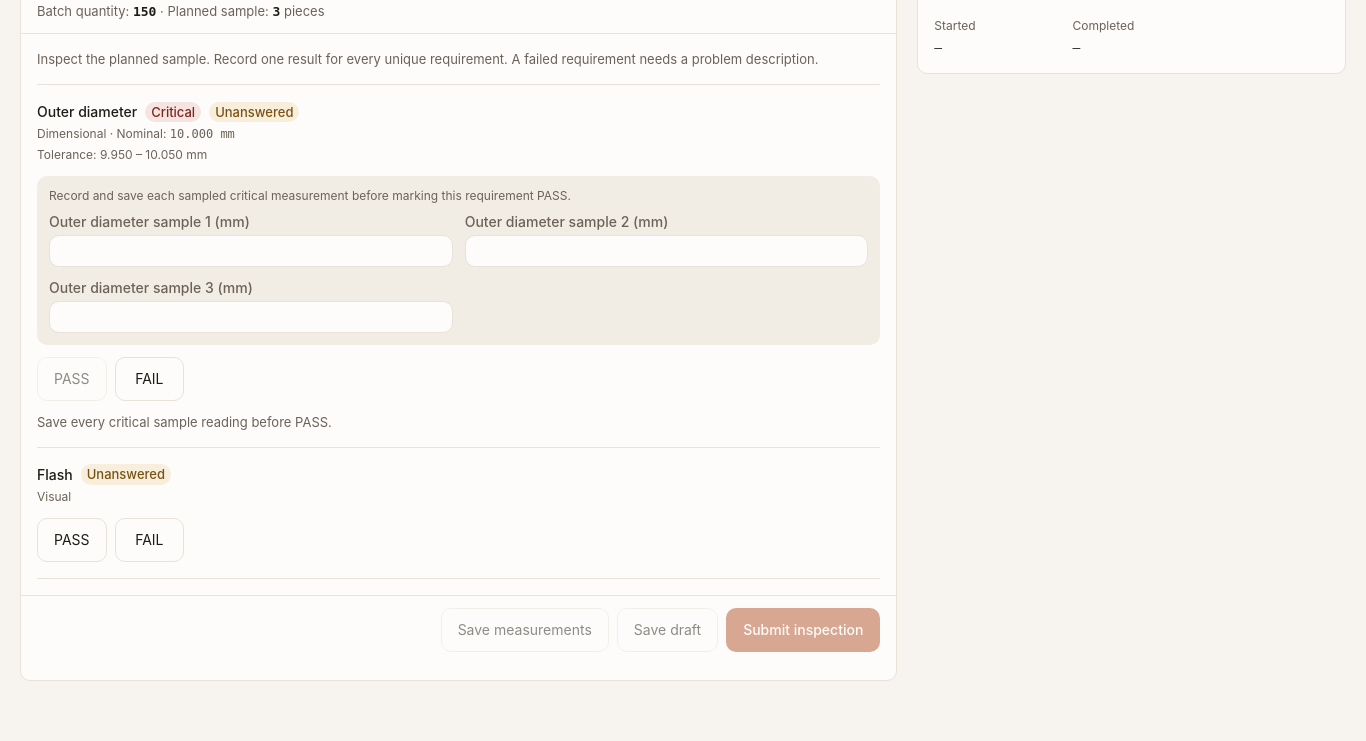
Scenario: InspectionDetailPage › shows critical sample measurements alongside checklist decisions for supplier_return
This screenshot has width=1366, height=741.
(page scrolled)
Check: the number of buttons "PASS" is 2, box [37, 357, 106, 401]; [37, 518, 106, 562]
Check: the number of number fields is 3, box [50, 236, 452, 266]; [466, 236, 867, 266]; [50, 302, 452, 332]
Click the button with aria-label "FAIL Outer diameter" at (149, 379), box [114, 357, 184, 401]
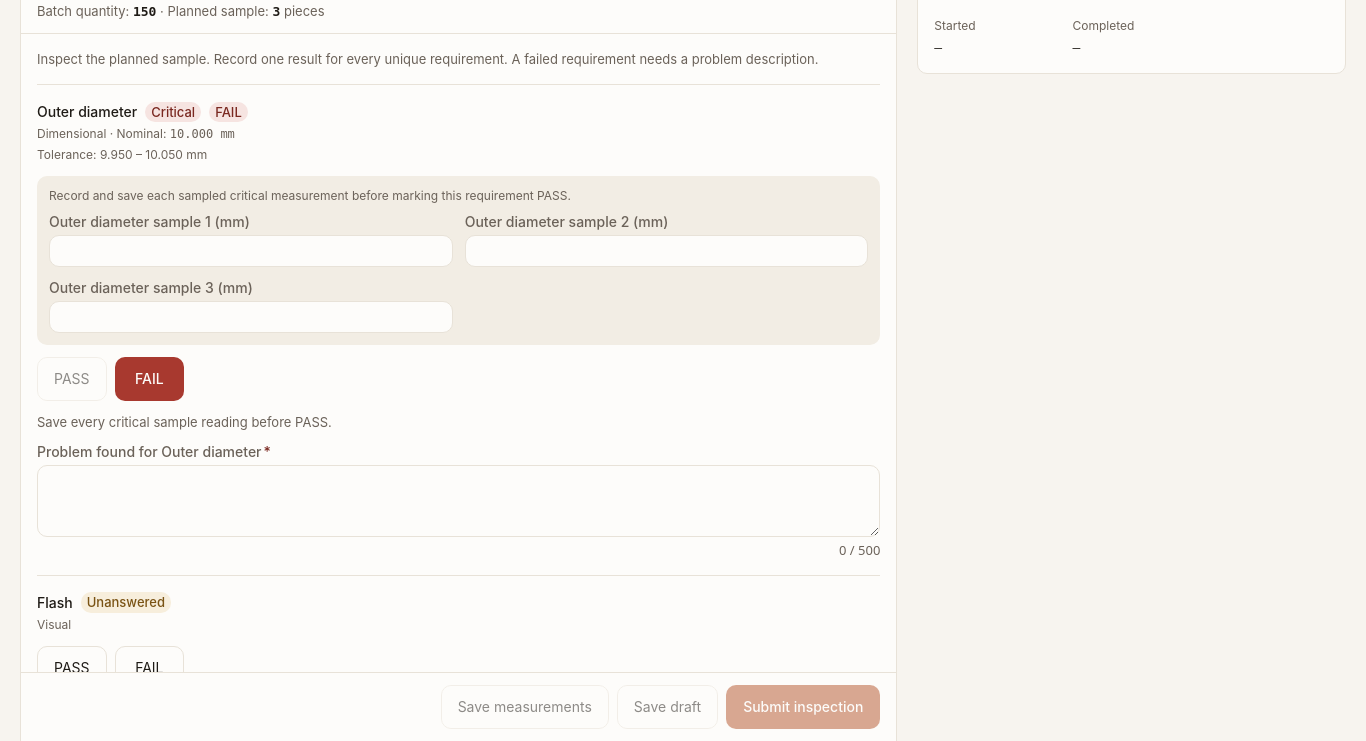
Type "Oversized part" into the text box labelled "Problem found for Outer diameter" at (459, 501), box [37, 465, 880, 537]
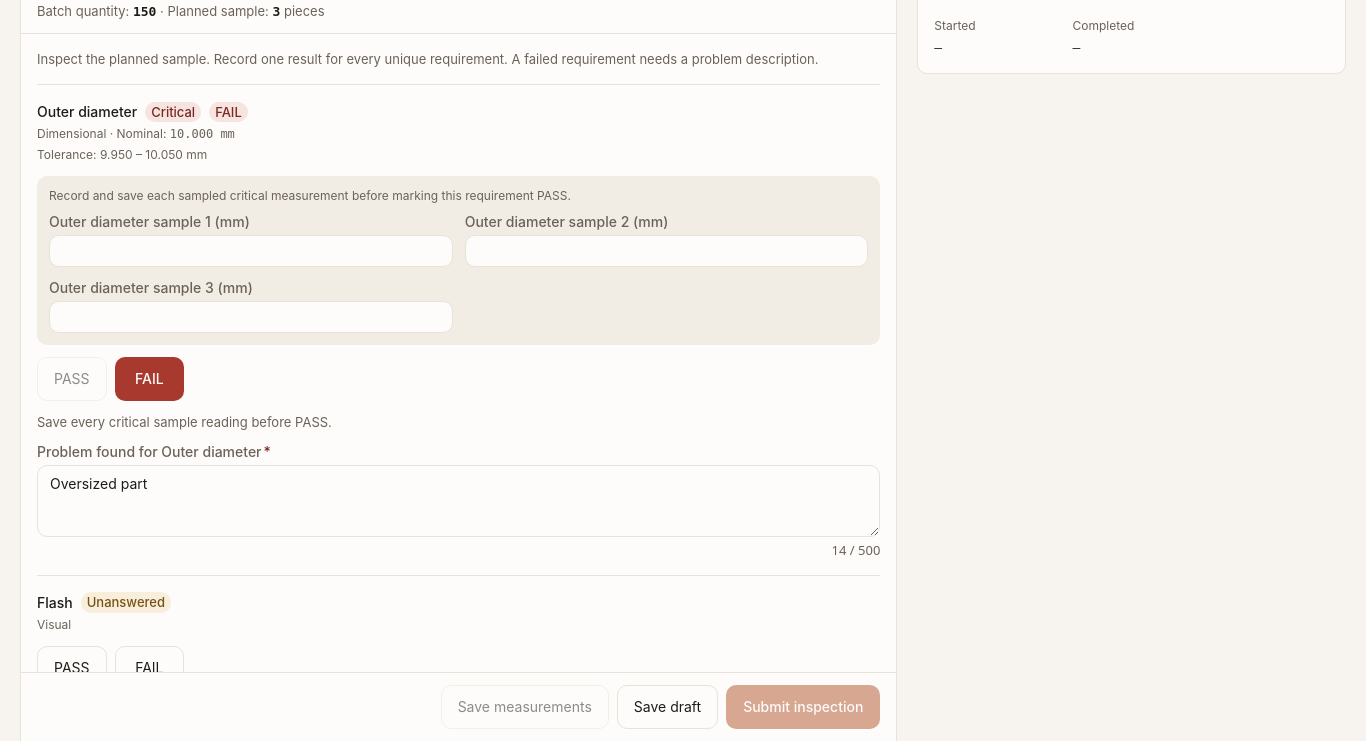
Click the button with aria-label "PASS Flash" at (72, 668), box [37, 646, 106, 690]
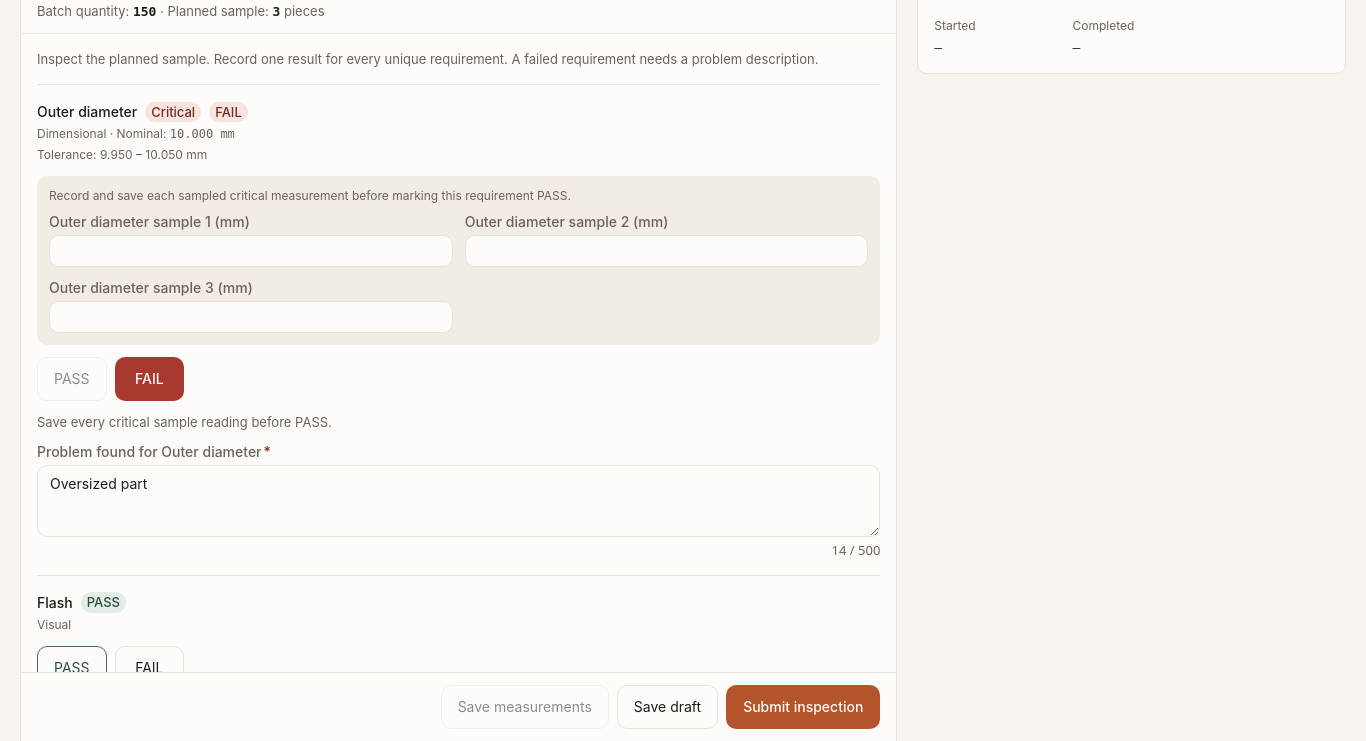
Check: the number of text boxes is 1, box [37, 465, 880, 537]
Check: the button "Submit inspection" is enabled, box [726, 685, 880, 729]
